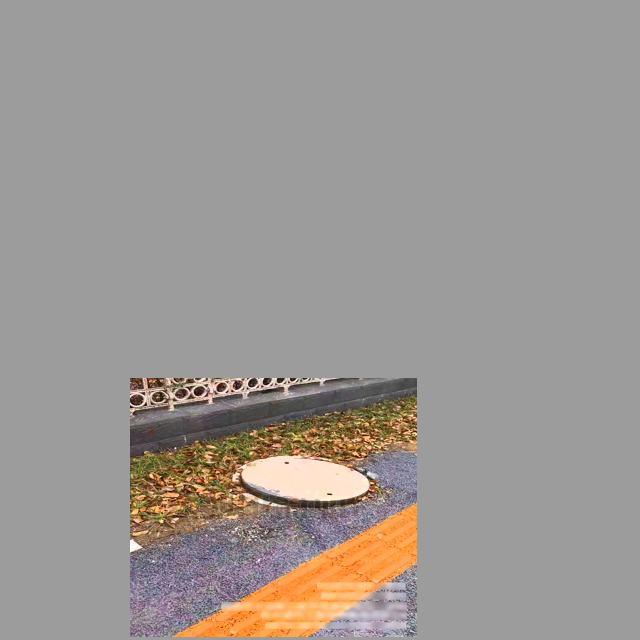uncovered: (232, 454, 375, 506)
